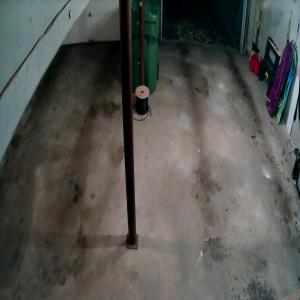garbage bin: (130, 0, 160, 94)
